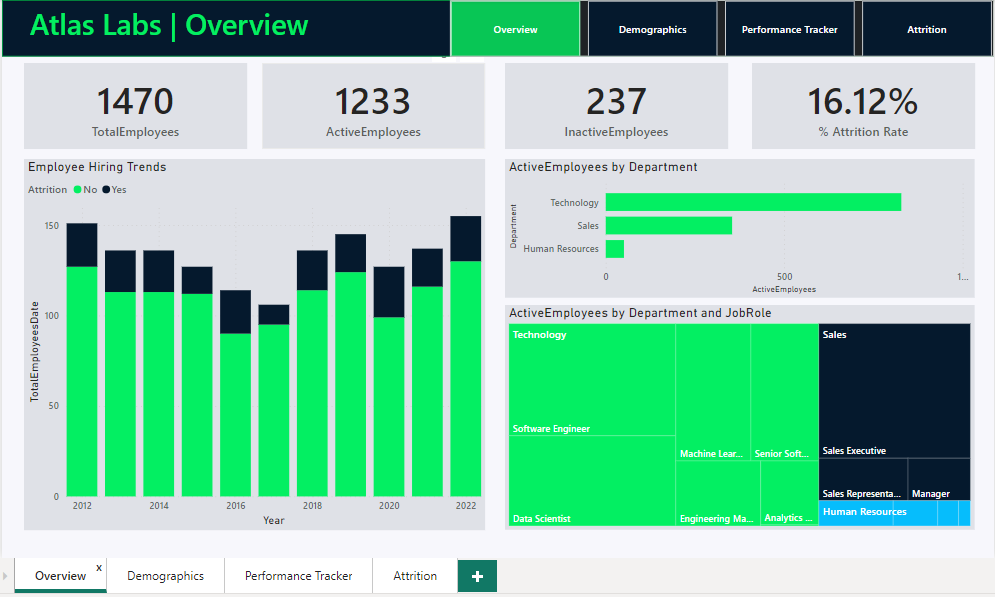

What the dashboard file says about the page in this screenshot:
{"tool":"powerbi","page":{"name":"Overview","canvas":[1280,720],"ordinal":0},"visuals":[{"type":"card","fields":{"Values":["_Measures.TotalEmployees"]},"box":[28.9,81.2,287.7,111.5],"z":0},{"type":"card","fields":{"Values":["_Measures.ActiveEmployees"]},"box":[335.8,81.2,287.7,111.5],"z":1000},{"type":"card","fields":{"Values":["_Measures.InactiveEmployees"]},"box":[649.6,81.2,287.7,111.5],"z":2000},{"type":"card","fields":{"Values":["_Measures.% Attrition Rate"]},"box":[967.6,81.2,287.7,111.5],"z":3000},{"type":"columnChart","title":"Employee Hiring Trends","fields":{"Category":["DimDate.Date.Variation.Date Hierarchy.Year","DimDate.Date.Variation.Date Hierarchy.Quarter","DimDate.Date.Variation.Date Hierarchy.Month","DimDate.Date.Variation.Date Hierarchy.Day"],"Y":["_Measures.TotalEmployeesDate"],"Series":["DimEmployee.Attrition"]},"box":[28.4,205.2,594.8,478.7],"z":4000},{"type":"clusteredBarChart","fields":{"Y":["_Measures.ActiveEmployees"],"Category":["DimEmployee.Department"]},"box":[649.6,205.1,605.6,178.9],"z":5000},{"type":"treemap","fields":{"Group":["DimEmployee.Department"],"Values":["_Measures.ActiveEmployees"],"Details":["DimEmployee.JobRole"]},"box":[649.6,393.6,605.6,290.4],"z":6000},{"type":"shape","box":[0,0,1280,72.9],"z":7000},{"type":"textbox","box":[0,0,447.3,64.7],"z":8000},{"type":"pageNavigator","box":[578.1,0,701.9,72.9],"z":9000}]}

Visuals, with their boxes on the page's 1280x720 design canvas (x1, y1, x2, y2). These are canvas units, not pixel positions in the 995x597 screenshot, which may show the page scaled, cropped or inside an application window:
card - _Measures.TotalEmployees: 29/81/317/193
card - _Measures.ActiveEmployees: 336/81/624/193
card - _Measures.InactiveEmployees: 650/81/937/193
card - _Measures.% Attrition Rate: 968/81/1255/193
"Employee Hiring Trends" columnChart: 28/205/623/684
clusteredBarChart - _Measures.ActiveEmployees x DimEmployee.Department: 650/205/1255/384
treemap - DimEmployee.Department x _Measures.ActiveEmployees: 650/394/1255/684
shape: 0/0/1280/73
textbox: 0/0/447/65
pageNavigator: 578/0/1280/73
